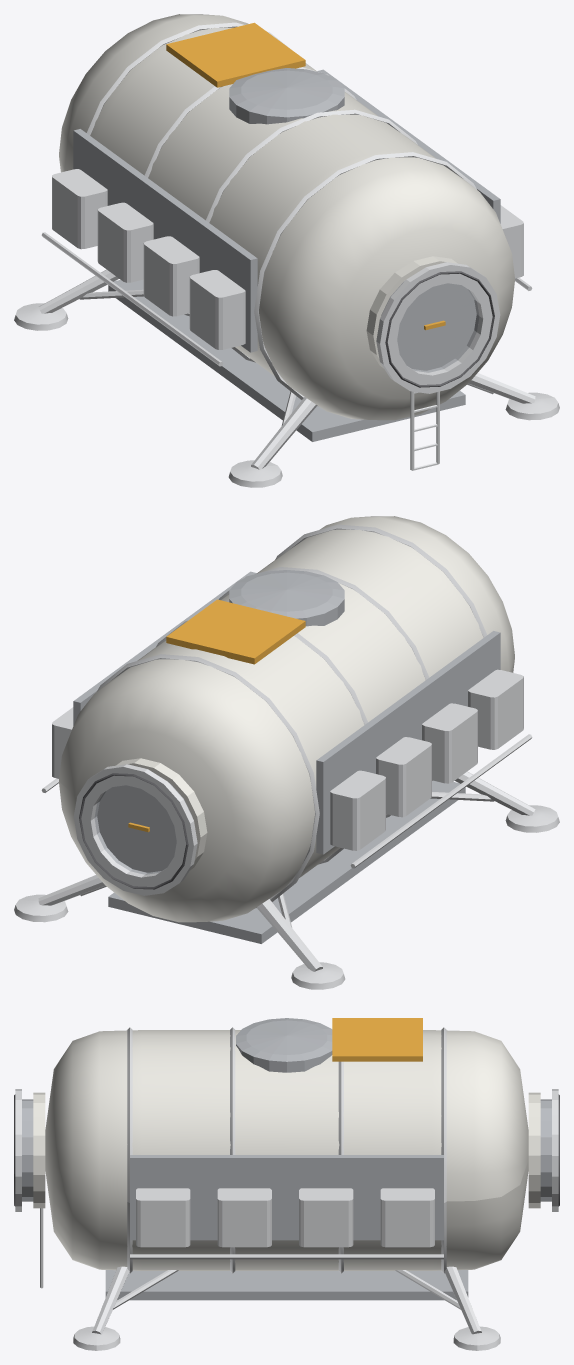
The model's file is rigid-cylinder-habitat-2dec4448.glb.
The picture shows the model from 3 angles, top to bottom: view 1: azimuth 30°, elevation 25°; view 2: azimuth 150°, elevation 25°; view 3: azimuth 270°, elevation 25°; orthographic projection. The views are drawn at different scales.
Visible parts, largest first — view 1: rigid-cylinder-habitat-logistics; view 2: rigid-cylinder-habitat-logistics; view 3: rigid-cylinder-habitat-logistics.
Part boxes in pixels (x1,y1,x2,y2): rigid-cylinder-habitat-logistics: [14, 14, 559, 487]; rigid-cylinder-habitat-logistics: [14, 516, 559, 989]; rigid-cylinder-habitat-logistics: [14, 1018, 559, 1350].
Bounding box in the file's own units: 5.5 × 4.52 × 9.04.
